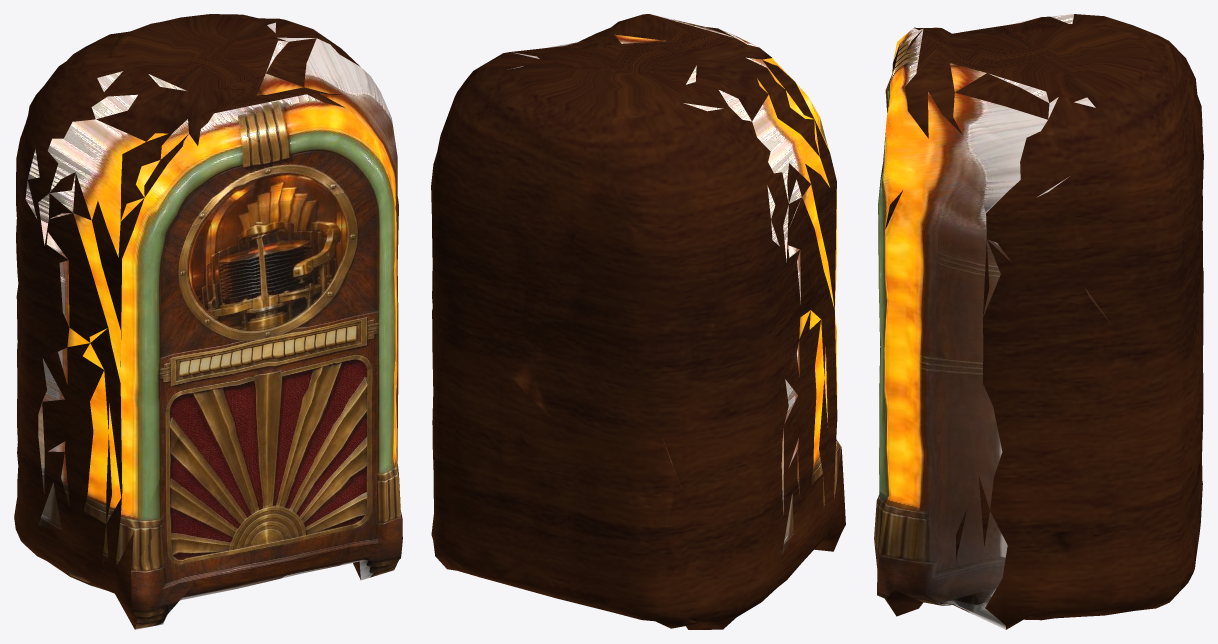
The model's file is jukebox.glb.
3 renders of one model, left to right at view 1: azimuth 30°, elevation 25°; view 2: azimuth 150°, elevation 25°; view 3: azimuth 270°, elevation 25°, orthographic. The views are drawn at different scales.
Parts seen in each view (by area): view 1: Front, Cabinet; view 2: Cabinet, Front; view 3: Cabinet, Front.
Boxes of the visible parts, box(x1,y1,x2,y2) form: Front: box(24, 22, 402, 629); Cabinet: box(14, 14, 360, 629); Cabinet: box(431, 14, 845, 629); Front: box(508, 14, 841, 622); Cabinet: box(885, 14, 1203, 629); Front: box(874, 14, 1109, 629).
Size of the model in its own units: 1.07 by 1.54 by 0.9083.
2 materials, 2 textured.
